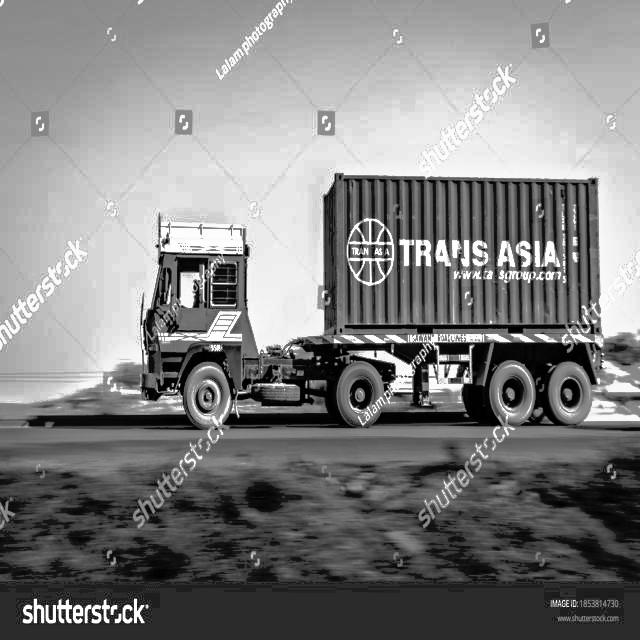HCV: (121, 148, 619, 478)
